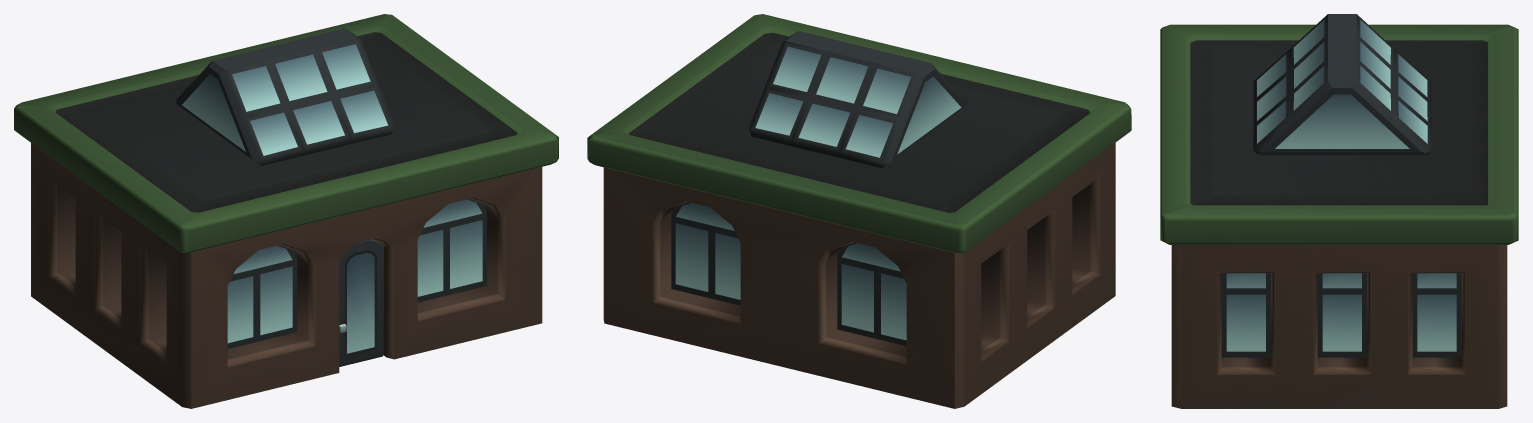
The model's file is office_building_type1_rooftop_floor_brown.fbx.
The picture shows the model from 3 angles, left to right: view 1: azimuth 30°, elevation 25°; view 2: azimuth 150°, elevation 25°; view 3: azimuth 270°, elevation 25°; orthographic projection. The views are drawn at different scales.
Visible parts, largest first — view 1: office_building_type1_rooftop_floor_brown, door_office_building_type1_rooftop_floor_brown; view 2: office_building_type1_rooftop_floor_brown; view 3: office_building_type1_rooftop_floor_brown.
Part boxes in pixels (x1,y1,x2,y2): office_building_type1_rooftop_floor_brown: (14,14,558,408); door_office_building_type1_rooftop_floor_brown: (339,239,383,366); office_building_type1_rooftop_floor_brown: (587,14,1131,408); office_building_type1_rooftop_floor_brown: (1160,14,1518,408).
Size of the model in its own units: 800 by 520 by 625.
